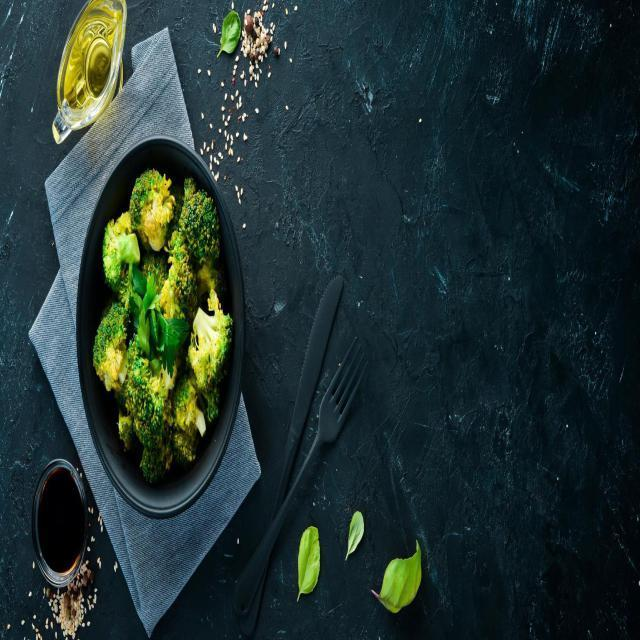broccoli: (120, 334, 168, 454), (124, 164, 180, 258), (187, 298, 237, 401), (177, 180, 225, 273), (91, 300, 135, 397), (174, 378, 212, 464), (105, 223, 144, 284)
